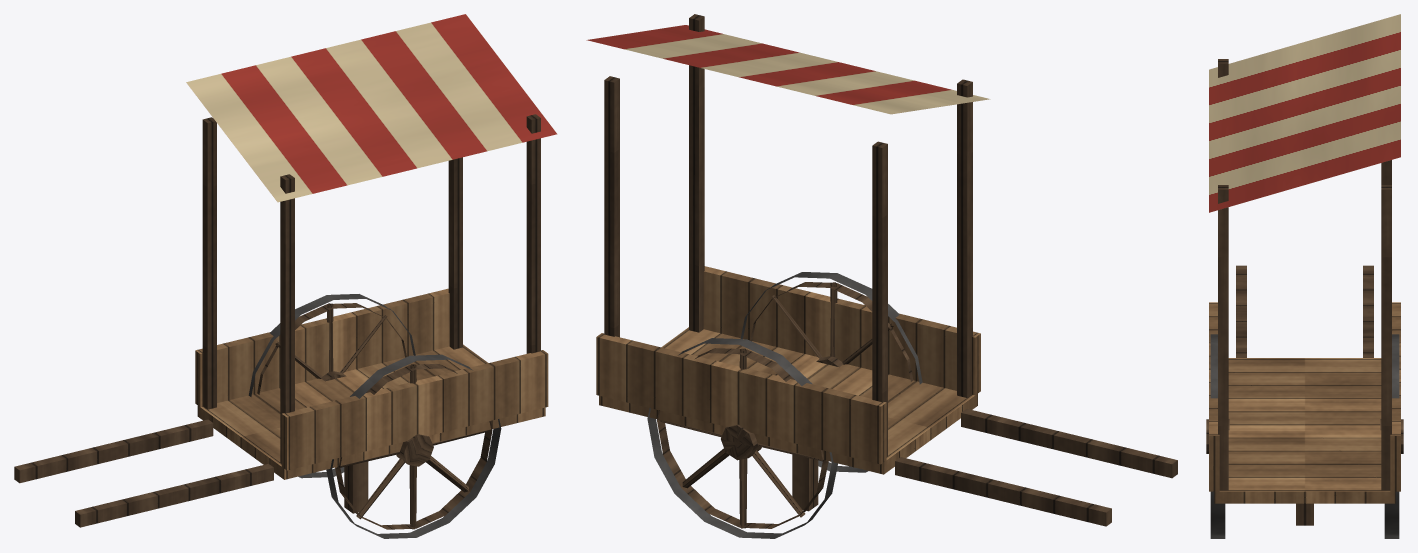
The model's file is Stall_Cart_Empty.gltf.
The picture shows the model from 3 angles, left to right: view 1: azimuth 30°, elevation 25°; view 2: azimuth 150°, elevation 25°; view 3: azimuth 270°, elevation 25°; orthographic projection. The views are drawn at different scales.
Parts seen in each view (by area): view 1: Stall_Cart_Empty; view 2: Stall_Cart_Empty; view 3: Stall_Cart_Empty.
Part boxes in pixels (<box>): Stall_Cart_Empty: <box>14,14,557,538</box>; Stall_Cart_Empty: <box>586,14,1177,538</box>; Stall_Cart_Empty: <box>1206,14,1403,538</box>.
Bounding box in the file's own units: 3.02 × 2.63 × 1.06.
4 materials, 4 textured.
